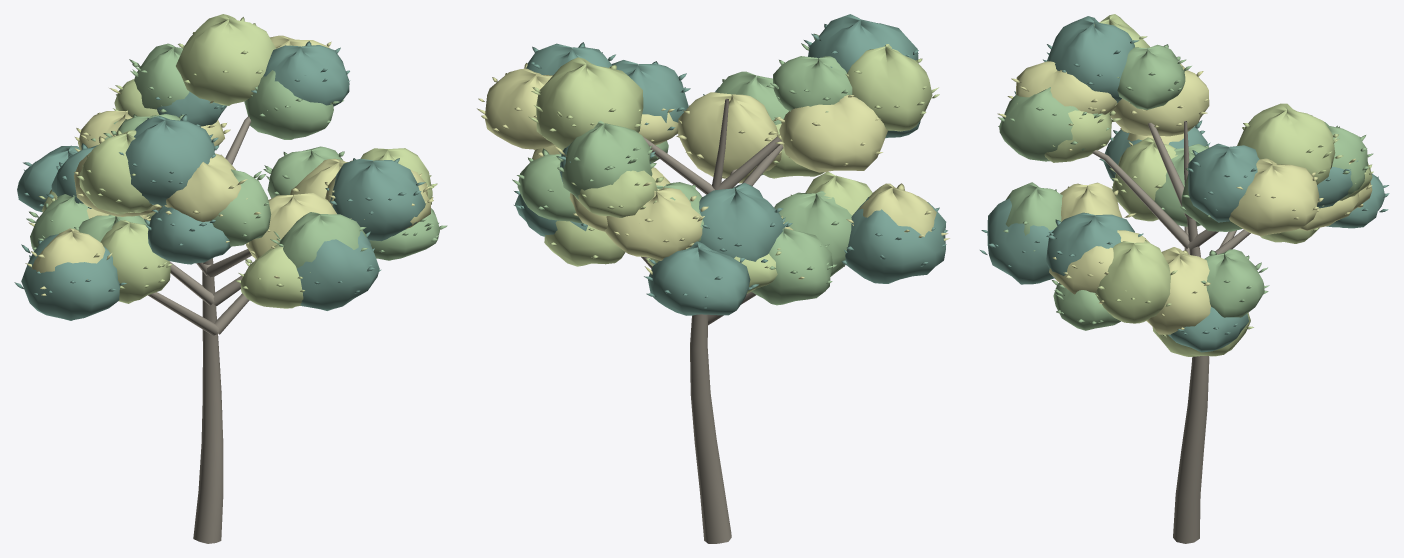
Rendered from maple_canopy.glb.
3 renders of one model, left to right at view 1: azimuth 30°, elevation 25°; view 2: azimuth 150°, elevation 25°; view 3: azimuth 270°, elevation 25°, orthographic. The views are drawn at different scales.
Parts seen in each view (by area): view 1: maple_canopy; view 2: maple_canopy; view 3: maple_canopy.
Boxes of the visible parts, x1,y1,x2,y2 form: maple_canopy: [14, 14, 447, 543]; maple_canopy: [477, 14, 949, 543]; maple_canopy: [980, 14, 1389, 543].
Size of the model in its own units: 7.26 by 8.4 by 6.6.
